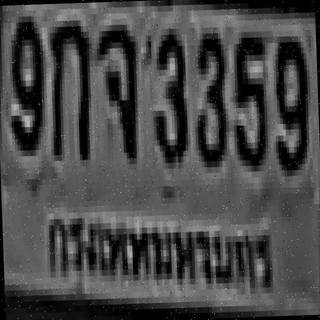A01: (46, 14, 90, 155)
A08: (96, 18, 137, 159)
N03: (148, 22, 186, 163), (192, 27, 227, 162)
N05: (230, 31, 266, 166)
N09: (5, 10, 44, 151), (272, 30, 308, 170)
P04: (40, 188, 279, 308)
